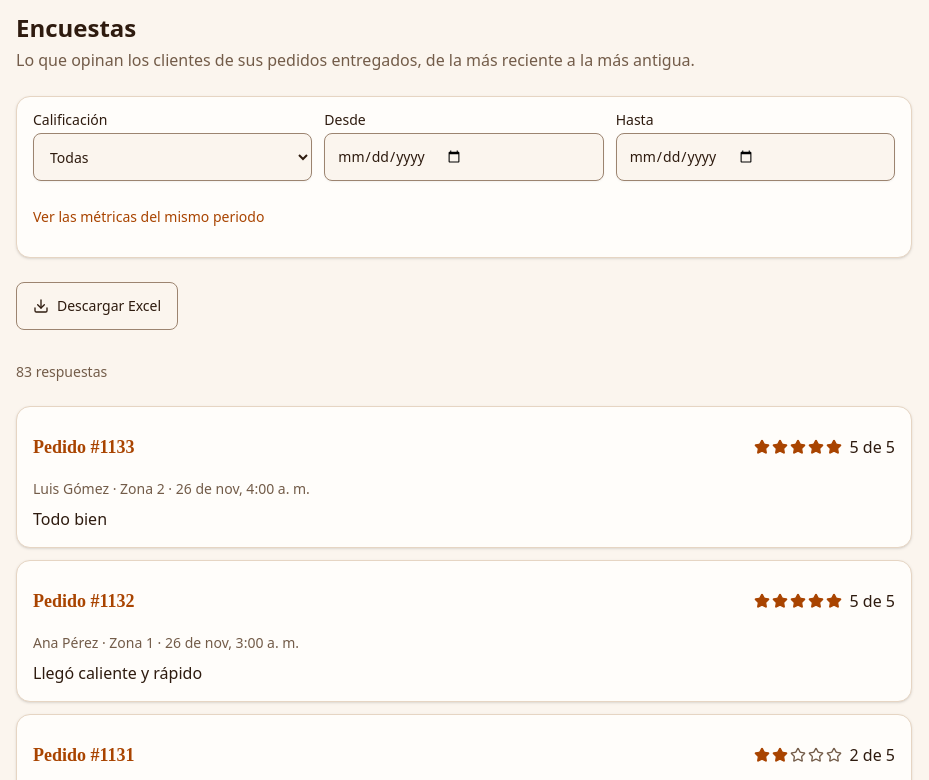
Test: SurveysView › filtrar por calificación va a la URL y al back; «Quitar filtros» los limpia
Select "5 estrellas" in the dropdown labelled "Calificación" at (173, 157), box [33,133,312,181]
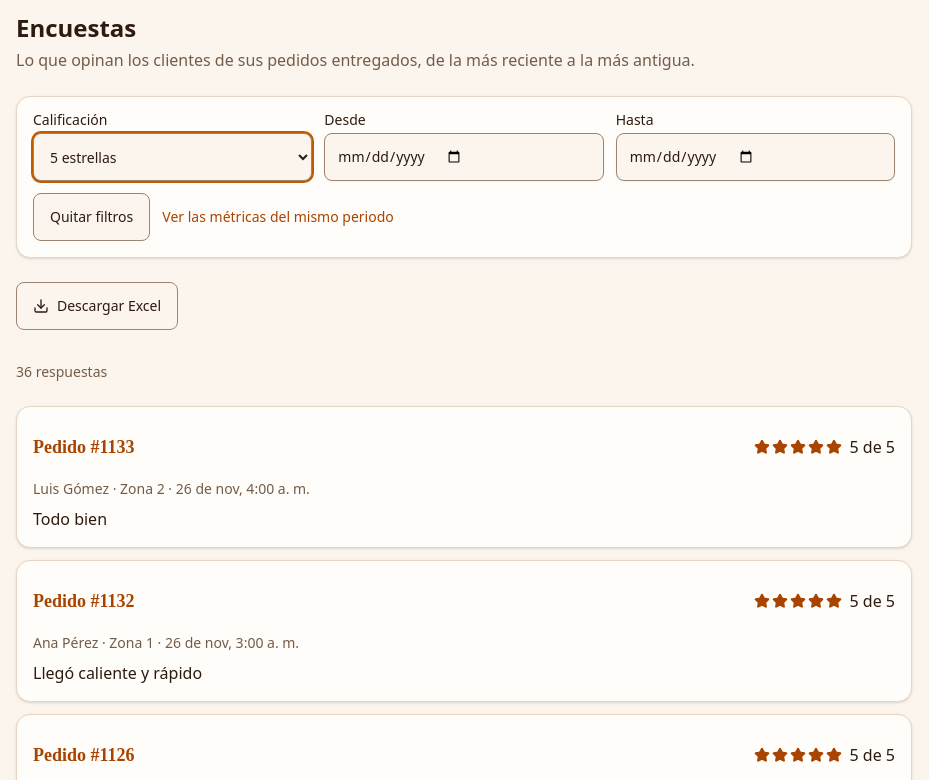
expect the text "5 de 5" in the row of "1133" is shown: met, box [850,436,895,458]
expect the text "5 de 5" in the row of "1132" is shown: met, box [850,590,895,612]
Click the button "Quitar filtros".
click(92, 217)  # box [33,193,150,241]
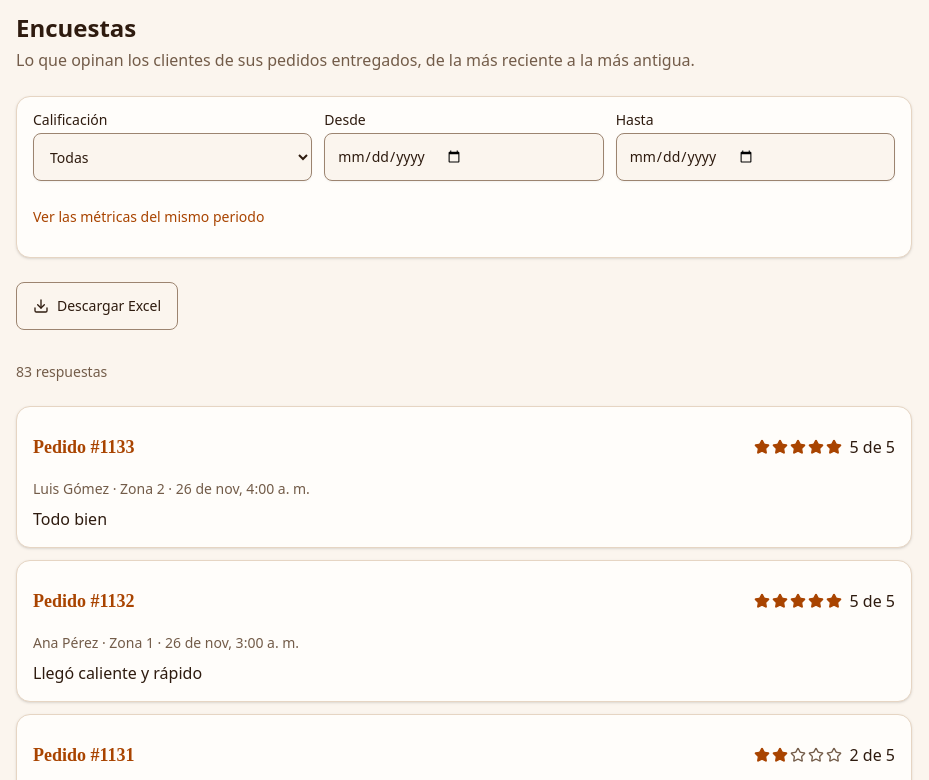
expect the button "Quitar filtros" is gone: met
